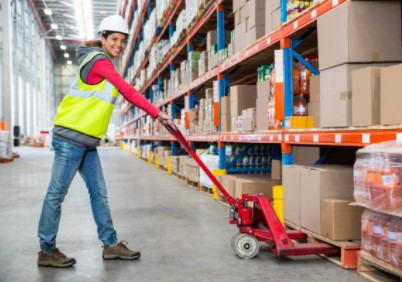worker: (54, 15, 130, 139)
